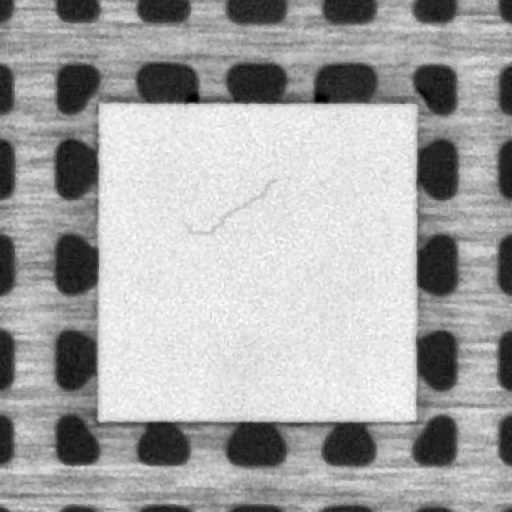DIE_CRACK: (178, 177, 278, 232)
